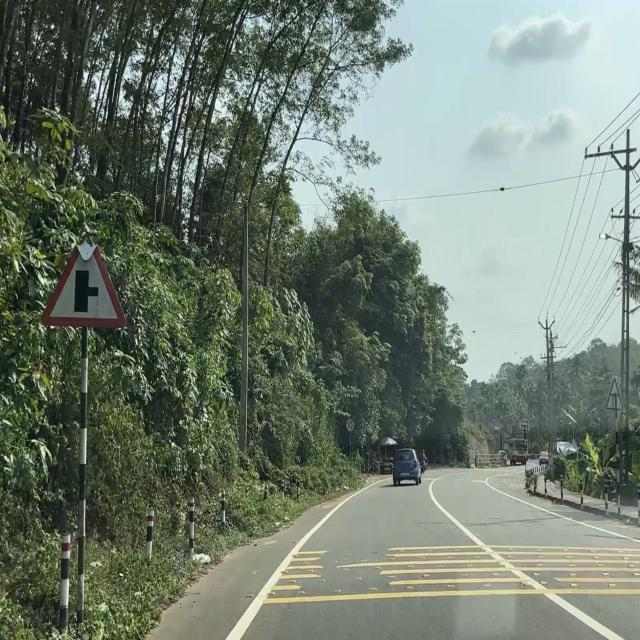OVERTAKING_PROHIBITED: (346, 418, 355, 432)
SIDE_ROAD_RIGHT: (39, 238, 130, 332)
